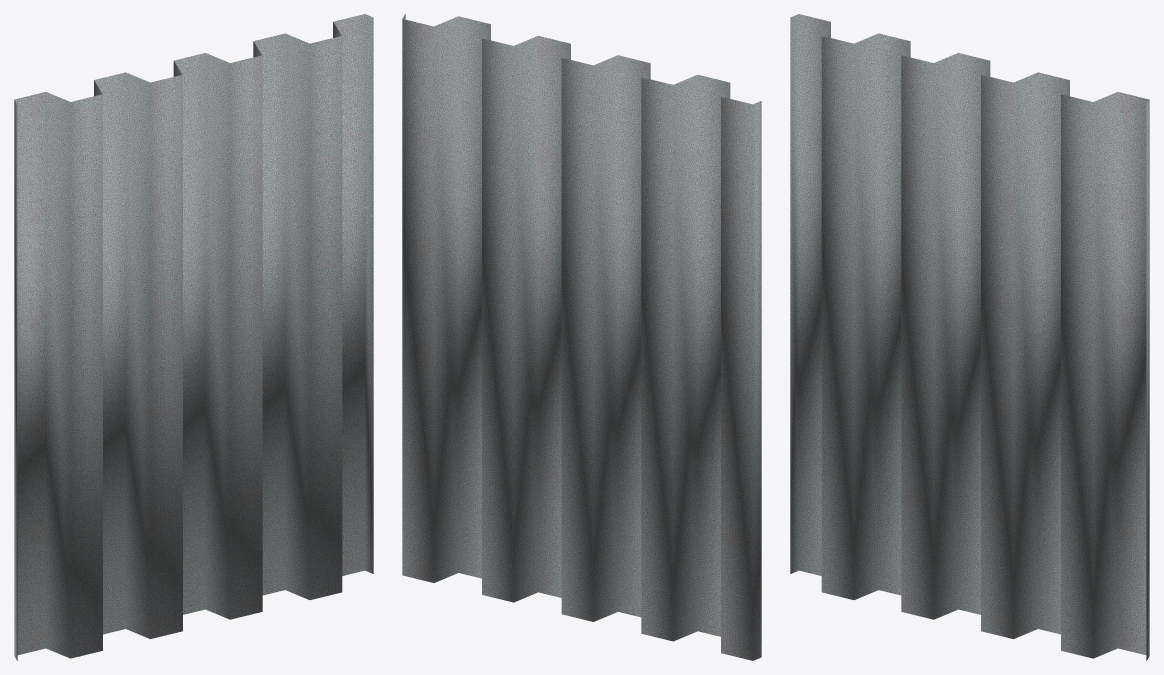
Rendered from corrugated_sheet.glb.
3 views of the same model, side by side, from view 1: azimuth 30°, elevation 25°; view 2: azimuth 150°, elevation 25°; view 3: azimuth 330°, elevation 25° (orthographic).
Visible parts, largest first — view 1: Corrugated sheet N091024; view 2: Corrugated sheet N091024; view 3: Corrugated sheet N091024.
Part boxes in pixels (<box>): Corrugated sheet N091024: <box>14,14,373,660</box>; Corrugated sheet N091024: <box>402,14,761,660</box>; Corrugated sheet N091024: <box>790,14,1149,660</box>.
Size of the model in its own units: 0.8048 by 1.2 by 0.066.
1 material, 1 textured.
